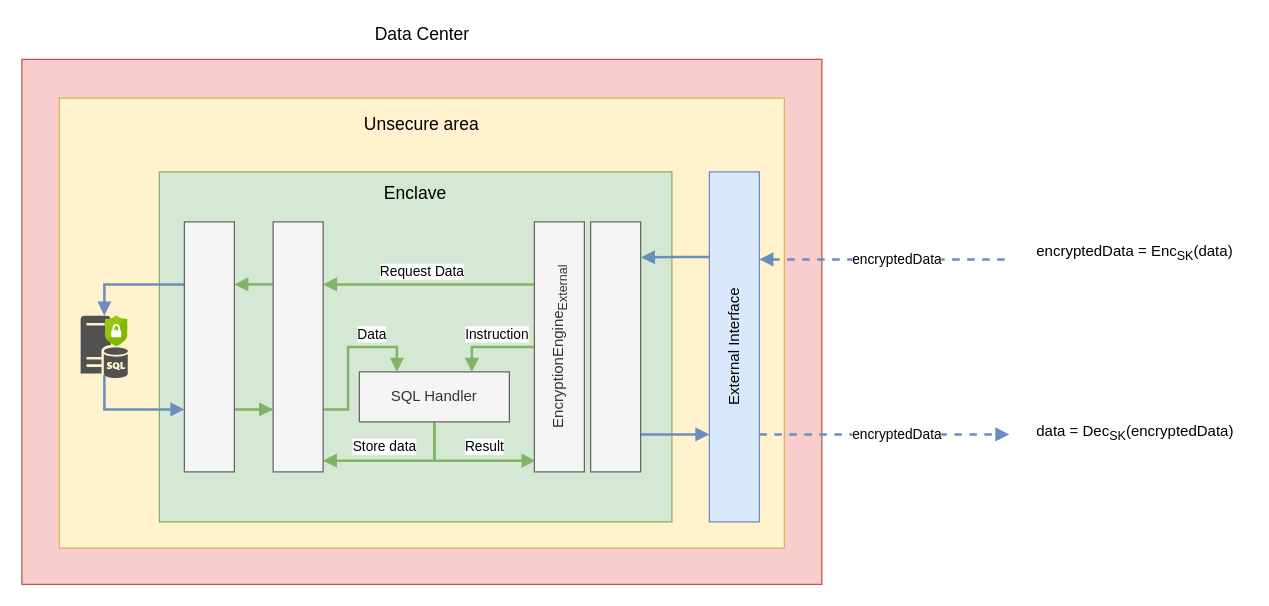
The diagram is 1269 pixels wide and 606 high, and some of its shapes have lost their labels. The shapes that lost their labels are listed below. From the top down, each one's centre as x and y in pixels, then its label:
the point at 208,346: Persistence Storage Handler
the point at 297,346: EncryptionEngine Storage
the point at 615,346: Communication Interface
